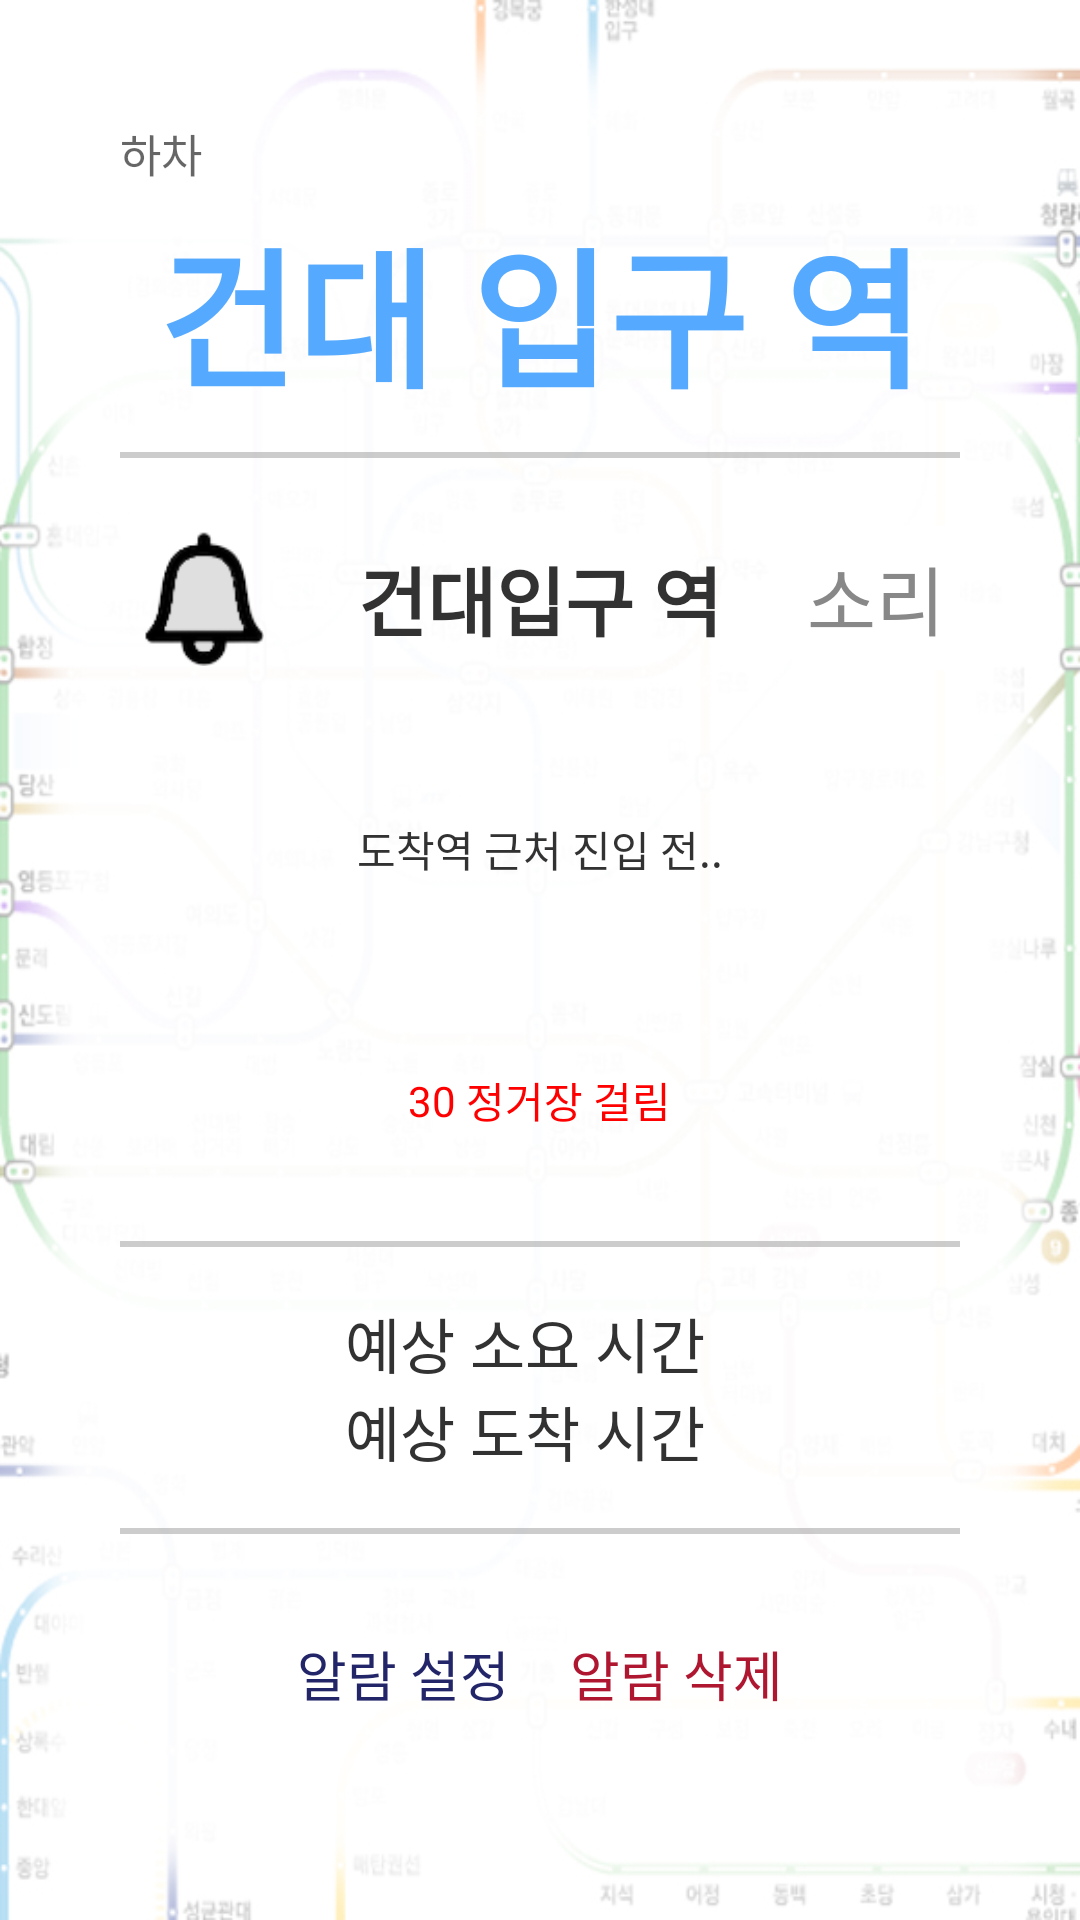

Icon click points for this 1080px x 1920px phone screenshot, format point (x, y):
bell: point (204, 599)
